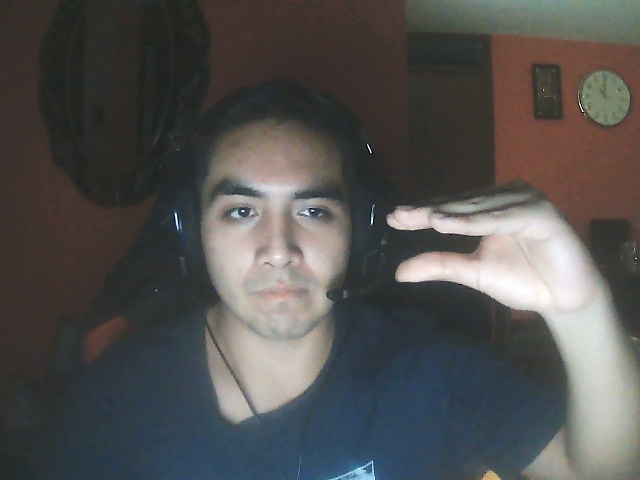no: (384, 176, 616, 321)
